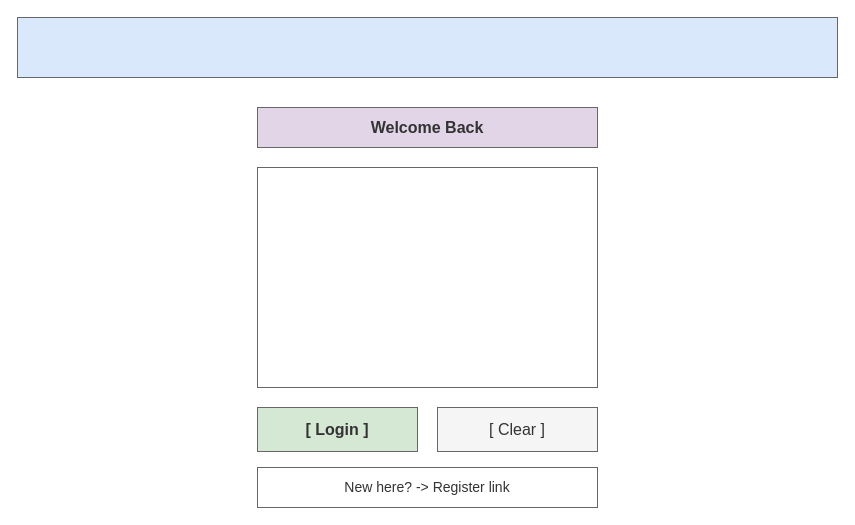
The diagram is 855 pixels wide and 525 high, and some of its shapes have lost their labels. The shapes that lost their labels are listed below. From the top down, each one's centre as x and y in pixels, then its label:
At point 427,47: "HEADER StudentHub Portal".
At point 427,277: "[ Field ] Email / Username [ Field ] Password [ ] Remember me Forgot password?".
